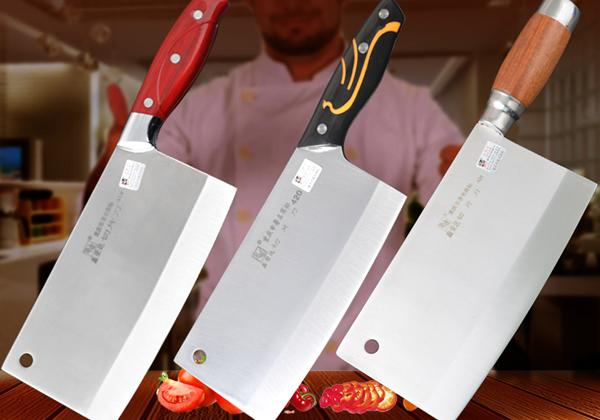knife: (7, 9, 596, 420)
